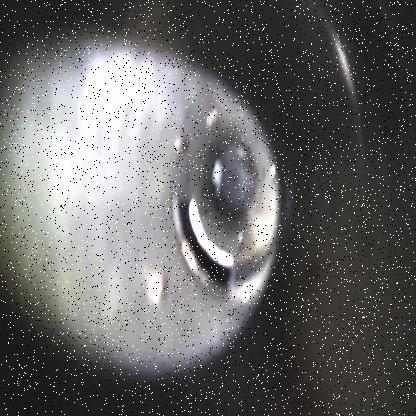Crack2: (170, 194, 238, 300)
